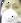with_mask: (1, 1, 21, 23)
